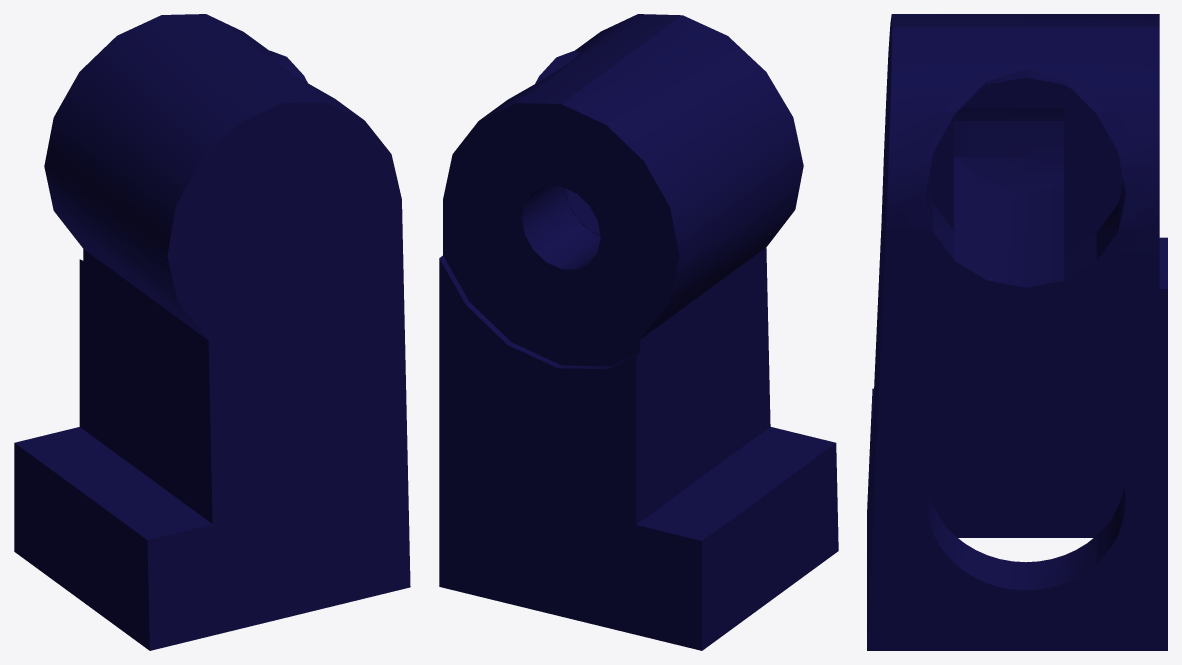
The model's file is left_leg_dark_purple.obj.
3 views of the same model, side by side, from view 1: azimuth 30°, elevation 25°; view 2: azimuth 150°, elevation 25°; view 3: azimuth 270°, elevation 25° (orthographic). The views are drawn at different scales.
Parts seen in each view (by area): view 1: left_leg_dark_purple; view 2: left_leg_dark_purple; view 3: left_leg_dark_purple.
Part boxes in pixels (<box>): left_leg_dark_purple: <box>14,14,410,650</box>; left_leg_dark_purple: <box>439,14,838,650</box>; left_leg_dark_purple: <box>867,14,1167,650</box>.
Size of the model in its own units: 20 by 37 by 18.
